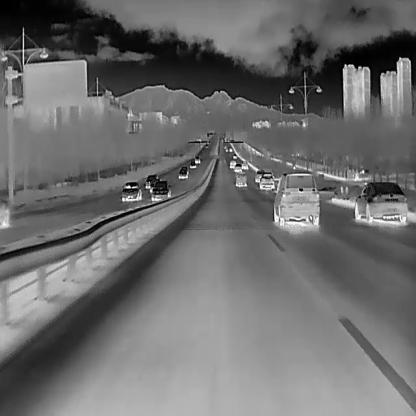car: (272, 171, 319, 226), (353, 180, 407, 223), (120, 180, 142, 201), (150, 181, 171, 200), (258, 172, 274, 190), (144, 173, 158, 188), (148, 178, 162, 192), (253, 168, 264, 182), (178, 169, 187, 178), (240, 160, 248, 169), (228, 159, 236, 168), (180, 165, 188, 173), (233, 164, 241, 172), (189, 161, 196, 168), (231, 153, 236, 158), (228, 146, 232, 151), (224, 148, 228, 152), (205, 143, 208, 148), (223, 145, 227, 148), (208, 140, 210, 144)
truck: (233, 171, 247, 186), (194, 155, 200, 163)
